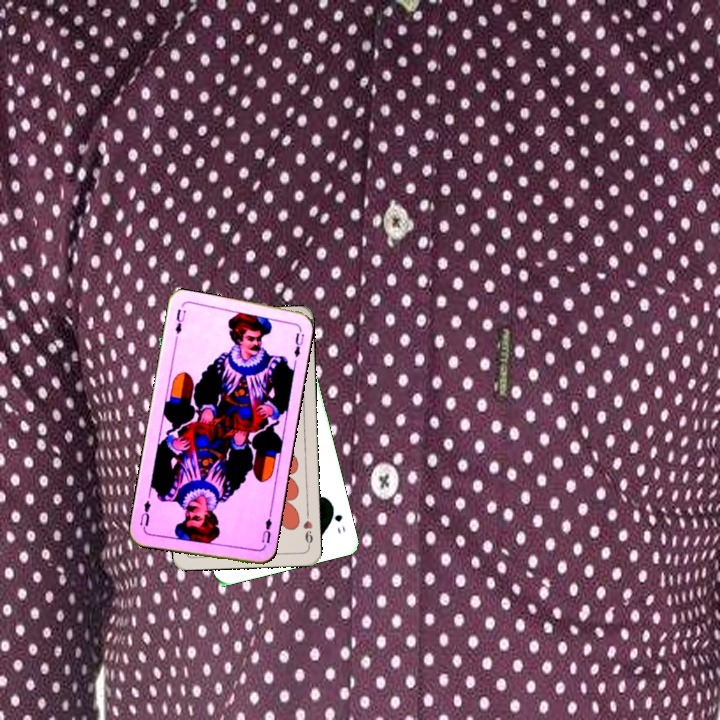EU: (171, 305, 188, 345), (257, 511, 274, 546)
GO: (327, 501, 348, 537)
H9: (299, 509, 315, 550)
